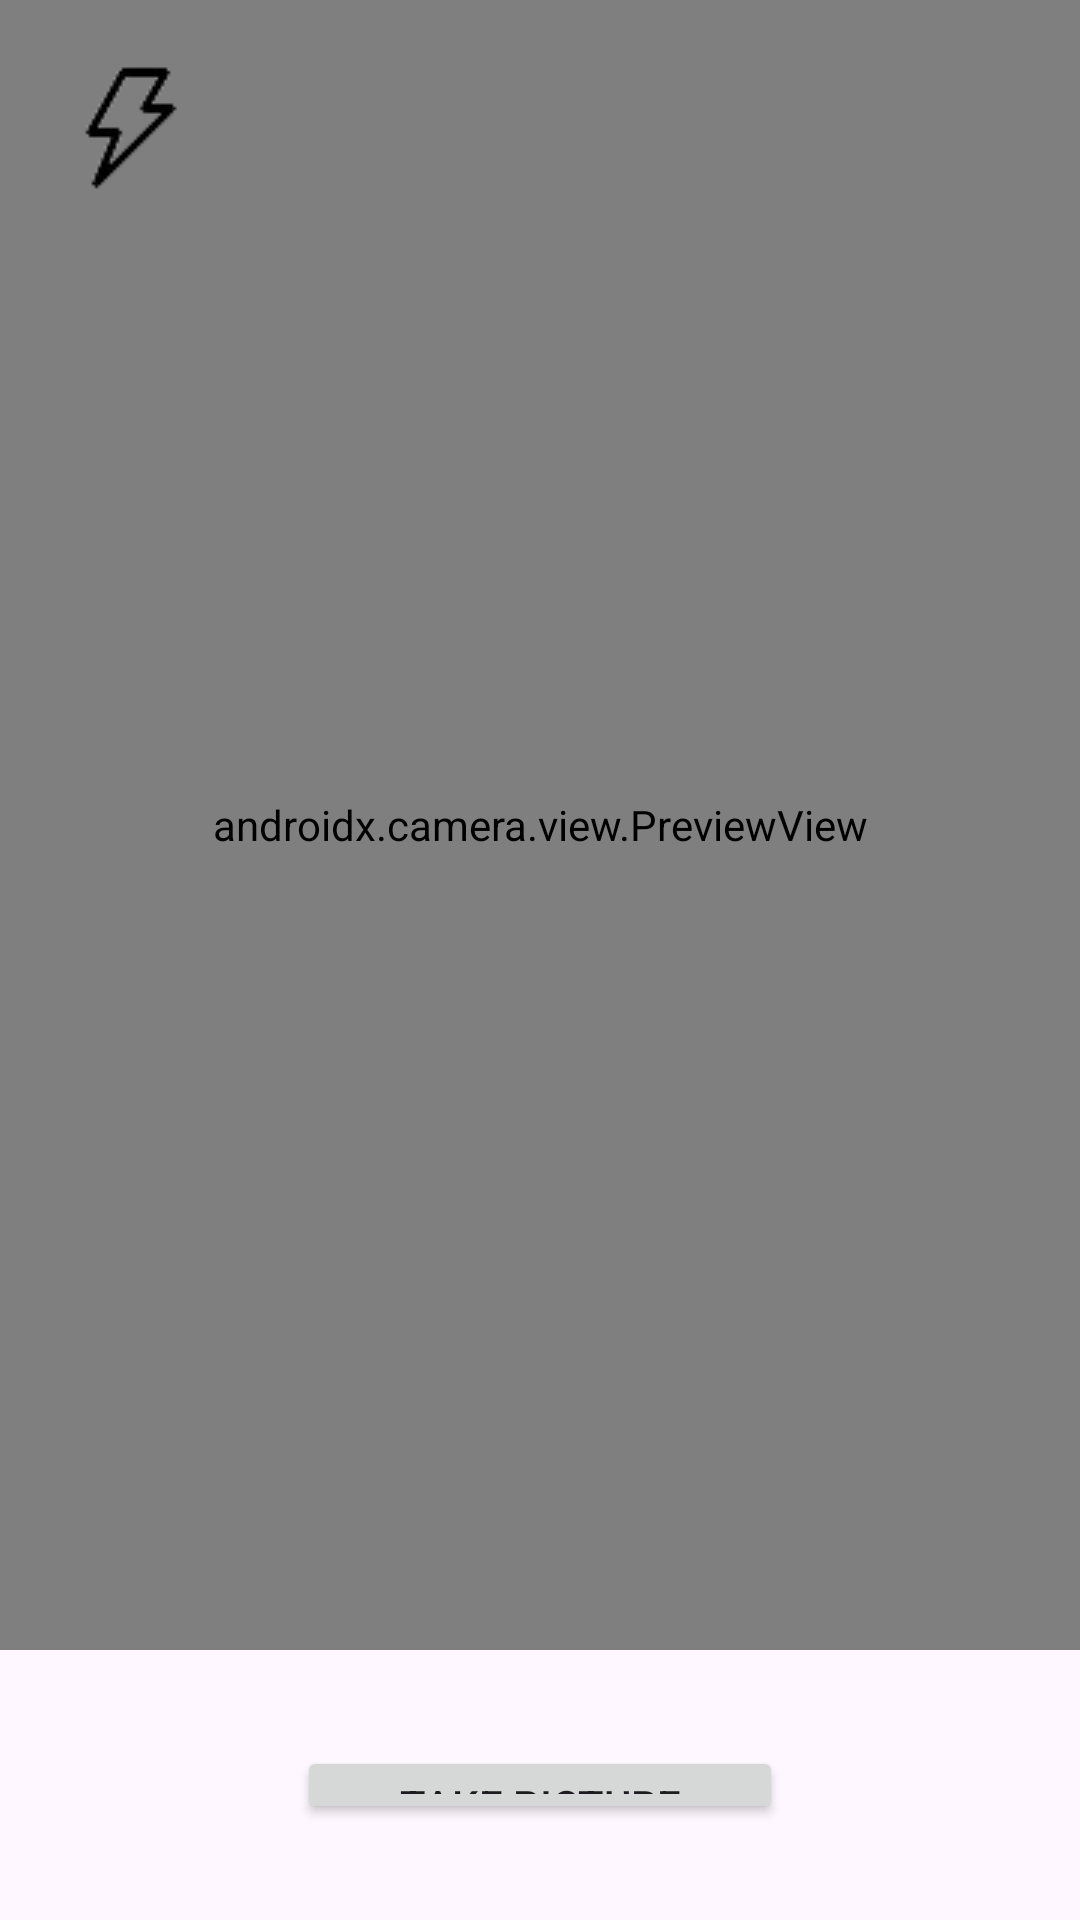

Screen size 1080 × 1920. Icon name, then its center in pixels as (x,y):
flash off: (131,128)
